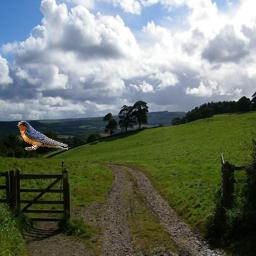Swallow: (16, 120, 68, 151)
